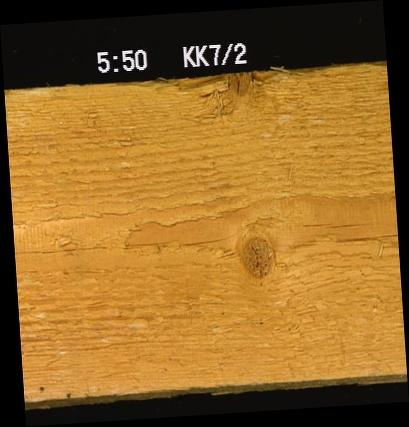split: (14, 245, 107, 252), (324, 220, 372, 228)
wave: (128, 71, 326, 89)
